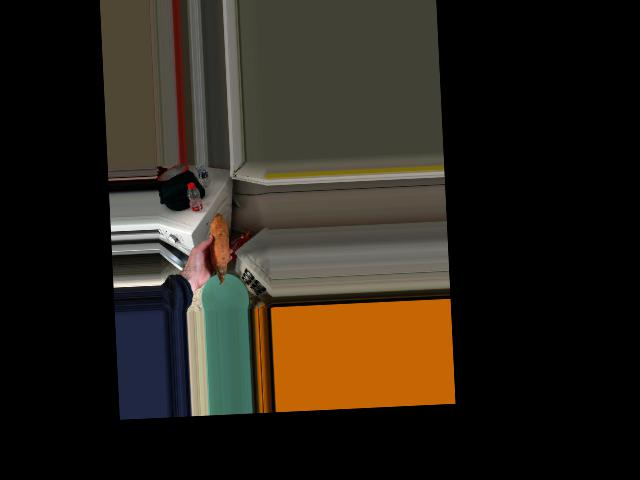sweet_potato: (209, 222, 227, 275)
